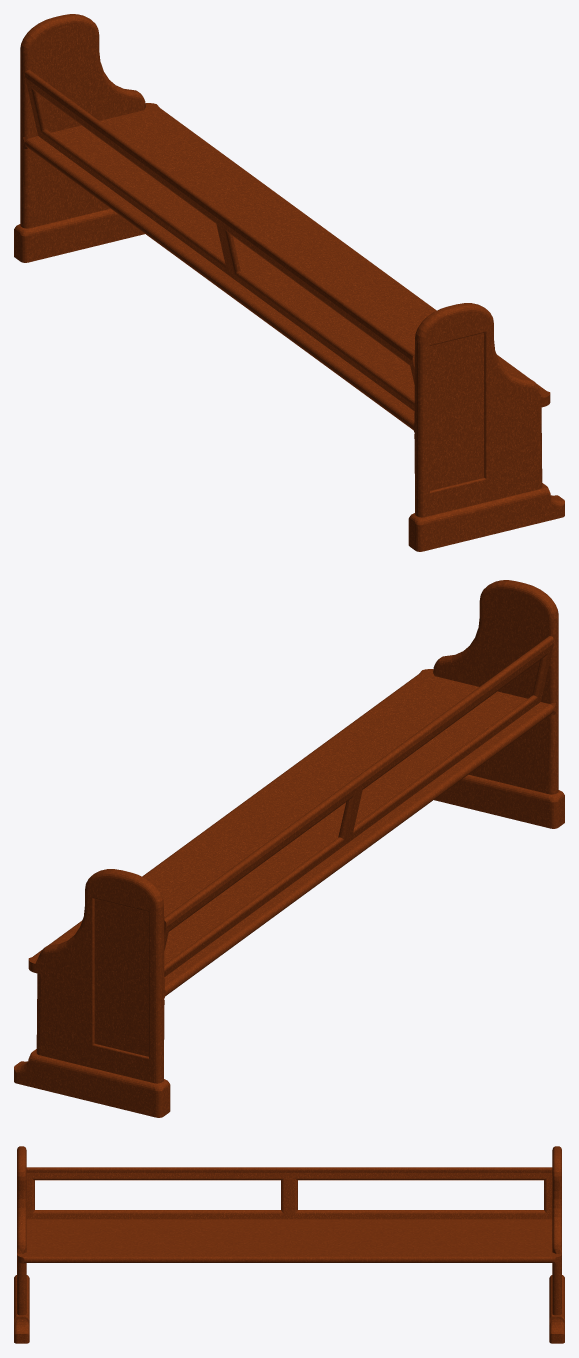
The model's file is bench.fbx.
The picture shows the model from 3 angles, top to bottom: view 1: azimuth 30°, elevation 25°; view 2: azimuth 150°, elevation 25°; view 3: azimuth 270°, elevation 25°; orthographic projection. The views are drawn at different scales.
Visible parts, largest first — view 1: Cube; view 2: Cube; view 3: Cube.
Boxes of the visible parts, box(x1,y1,x2,y2) form: Cube: box(14, 14, 564, 551); Cube: box(14, 580, 564, 1117); Cube: box(14, 1146, 564, 1343).
Size of the model in its own units: 225 by 335 by 1063.
Materials: 1 (1 with a texture image).
